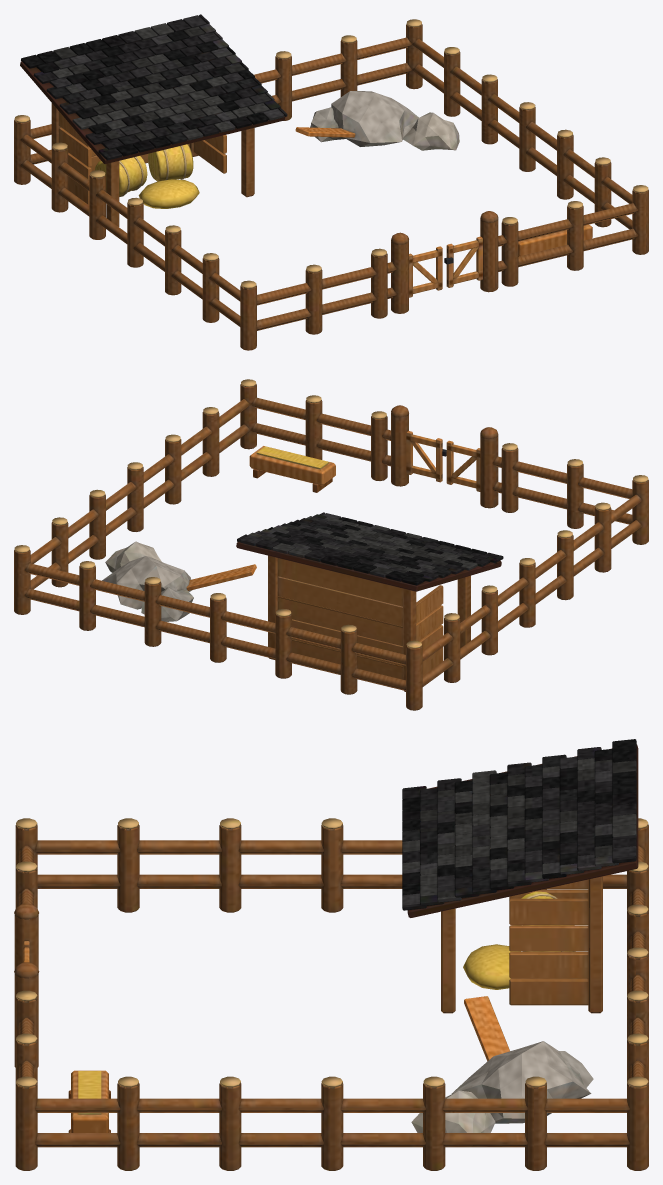
The model's file is alpine_yard.glb.
The picture shows the model from 3 angles, top to bottom: view 1: azimuth 30°, elevation 25°; view 2: azimuth 150°, elevation 25°; view 3: azimuth 270°, elevation 25°; orthographic projection. The views are drawn at different scales.
Parts seen in each view (by area): view 1: alpine_yard, gate1, gate0; view 2: alpine_yard, gate1, gate0; view 3: alpine_yard.
Boxes of the visible parts, bbox=[...] form: alpine_yard: bbox=[14, 14, 648, 350]; gate1: bbox=[444, 236, 482, 287]; gate0: bbox=[409, 246, 442, 297]; alpine_yard: bbox=[14, 379, 648, 710]; gate1: bbox=[406, 431, 446, 482]; gate0: bbox=[446, 440, 480, 491]; alpine_yard: bbox=[14, 739, 648, 1170].
Bounding box in the file's own units: 3 × 0.9345 × 3.01.
Materials: 1 (1 with a texture image).
